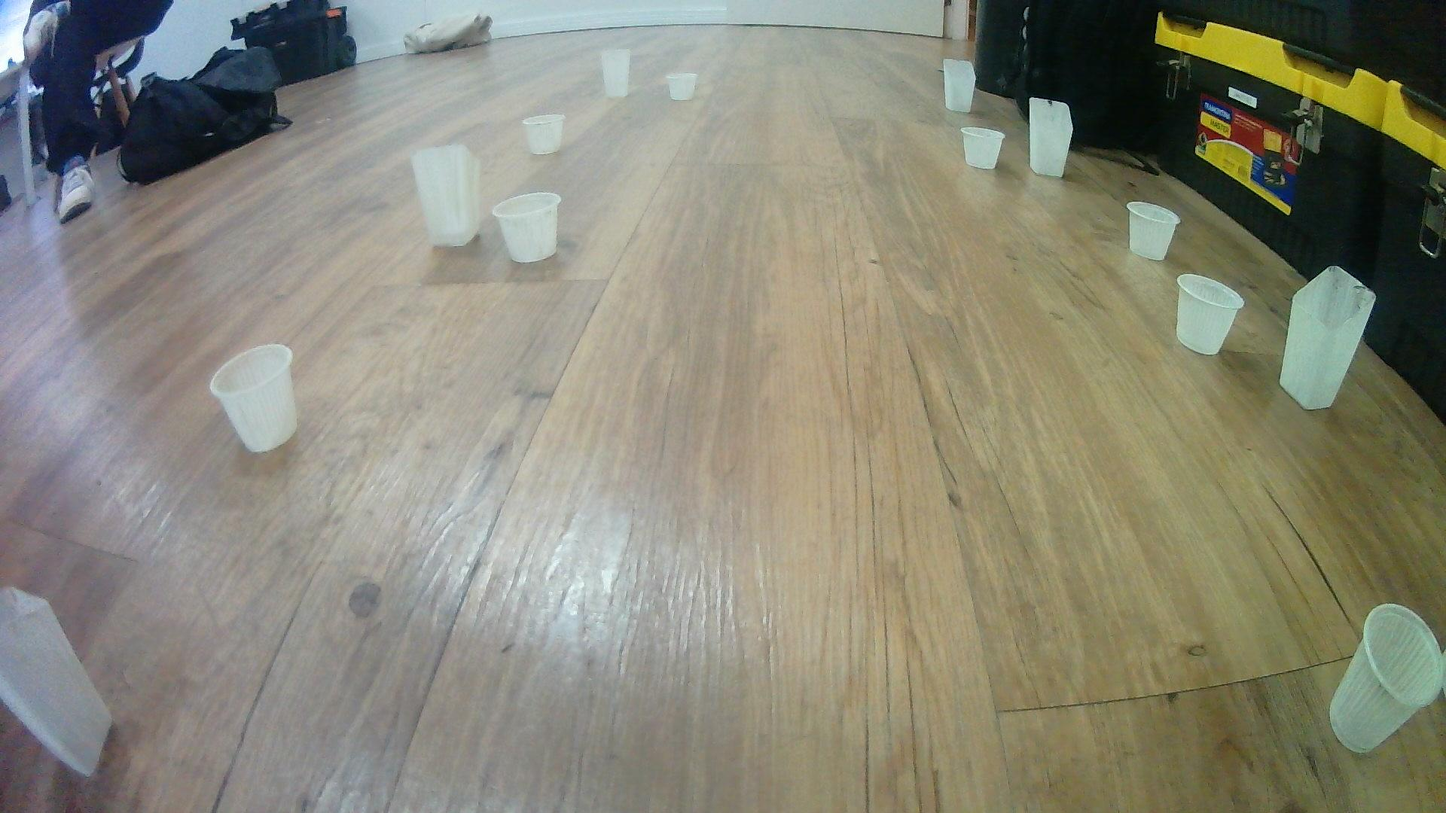erva_daninha: (0, 586, 116, 777), (1279, 263, 1377, 413), (410, 143, 484, 249), (1027, 96, 1075, 179), (942, 58, 978, 114), (600, 48, 633, 99)
planta: (1326, 601, 1446, 755), (209, 342, 299, 454), (1176, 273, 1246, 357), (491, 191, 563, 264), (1124, 199, 1180, 262), (959, 124, 1005, 170), (521, 111, 566, 157), (666, 72, 699, 102)
